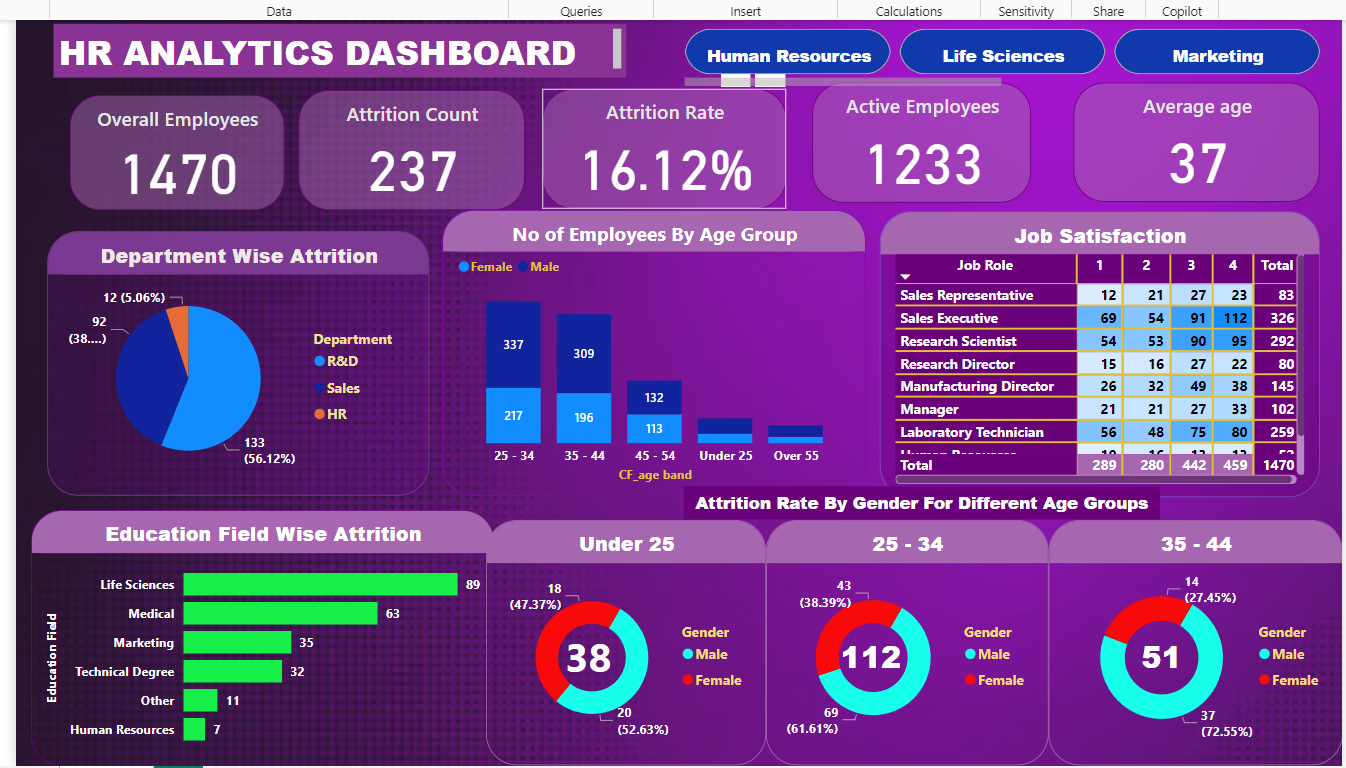

This screenshot's page, from the dashboard's own definition file:
{"tool":"powerbi","page":{"name":"Page 1","canvas":[1280,720],"ordinal":0},"visuals":[{"type":"card","title":"Overall Employees ","fields":{"Values":["HR data.total"]},"box":[51.7,72.4,206.9,111.5],"z":0},{"type":"card","title":"Attrition Count","fields":{"Values":["HR data.Measure_yes"]},"box":[272.4,67.8,218.4,116.1],"z":1000},{"type":"card","title":"Attrition Rate","fields":{"Values":["HR data.Attrition Rate"]},"box":[508,66.7,235.6,116.1],"z":2000},{"type":"card","title":"Active Employees","fields":{"Values":["HR data.Measure_no"]},"box":[769,59.8,211.5,116.1],"z":3000},{"type":"card","title":"Average age","fields":{"Values":["Avg(HR data.Age)"]},"box":[1020.7,60.9,237.9,114.9],"z":4000},{"type":"pieChart","title":"Department Wise Attrition","fields":{"Category":["HR data.Department"],"Y":["Sum(HR data.Attrition Count)"]},"box":[29.9,203.4,369,255.2],"z":5000},{"type":"columnChart","title":"No of Employees By Age Group","fields":{"Category":["HR data.CF_age band"],"Y":["Sum(HR data.Employee Count)"],"Series":["HR data.Gender"]},"box":[411.5,183.9,409.2,275.9],"z":6000},{"type":"pivotTable","title":"Job Satisfaction","fields":{"Rows":["HR data.Job Role"],"Columns":["HR data.Job Satisfaction"],"Values":["Sum(HR data.Employee Count)"]},"box":[833.7,184.6,424.7,276.3],"z":7000},{"type":"barChart","title":"Education Field Wise Attrition","fields":{"Category":["HR data.Education Field"],"Y":["Sum(HR data.Attrition Count)"]},"box":[14.9,472.4,447.1,247.1],"z":8000},{"type":"donutChart","title":"Under 25","fields":{"Category":["HR data.Gender"],"Series":["HR data.CF_age band"],"Y":["Sum(HR data.Attrition Count)"]},"box":[454,482.8,270.1,236.8],"z":9000},{"type":"textbox","box":[644.8,450.6,459.8,32.2],"z":10000},{"type":"donutChart","title":"25 - 34","fields":{"Category":["HR data.Gender"],"Series":["HR data.CF_age band"],"Y":["Sum(HR data.Attrition Count)"]},"box":[724.1,482.8,272.4,236.8],"z":11000},{"type":"donutChart","title":"35 - 44","fields":{"Category":["HR data.Gender"],"Series":["HR data.CF_age band"],"Y":["Sum(HR data.Attrition Count)"]},"box":[996.6,482.8,283.9,236.8],"z":12000},{"type":"card","fields":{"Values":["Sum(HR data.Attrition Count)"]},"box":[495.4,555.2,113.8,118.4],"z":13000},{"type":"card","fields":{"Values":["Sum(HR data.Attrition Count)"]},"box":[788.5,580.5,72.4,69],"z":14000},{"type":"card","fields":{"Values":["Sum(HR data.Attrition Count)"]},"box":[1033.3,550.6,143.7,128.7],"z":15000},{"type":"advancedSlicerVisual","fields":{"Values":["HR data.Education Field"]},"box":[640.2,3.4,624.1,67.8],"z":16000},{"type":"textbox","box":[36.8,3.4,552.9,51.7],"z":17000}]}

Visuals, with their boxes on the page's 1280x720 design canvas (x1, y1, x2, y2). These are canvas units, not pixel positions in the 1346x768 screenshot, which may show the page scaled, cropped or inside an application window:
"Overall Employees " card: (52,72,259,184)
"Attrition Count" card: (272,68,491,184)
"Attrition Rate" card: (508,67,744,183)
"Active Employees" card: (769,60,980,176)
"Average age" card: (1021,61,1259,176)
"Department Wise Attrition" pieChart: (30,203,399,459)
"No of Employees By Age Group" columnChart: (412,184,821,460)
"Job Satisfaction" pivotTable: (834,185,1258,461)
"Education Field Wise Attrition" barChart: (15,472,462,720)
"Under 25" donutChart: (454,483,724,720)
textbox: (645,451,1105,483)
"25 - 34" donutChart: (724,483,996,720)
"35 - 44" donutChart: (997,483,1280,720)
card - Sum(HR data.Attrition Count): (495,555,609,674)
card - Sum(HR data.Attrition Count): (788,580,861,650)
card - Sum(HR data.Attrition Count): (1033,551,1177,679)
advancedSlicerVisual - HR data.Education Field: (640,3,1264,71)
textbox: (37,3,590,55)
